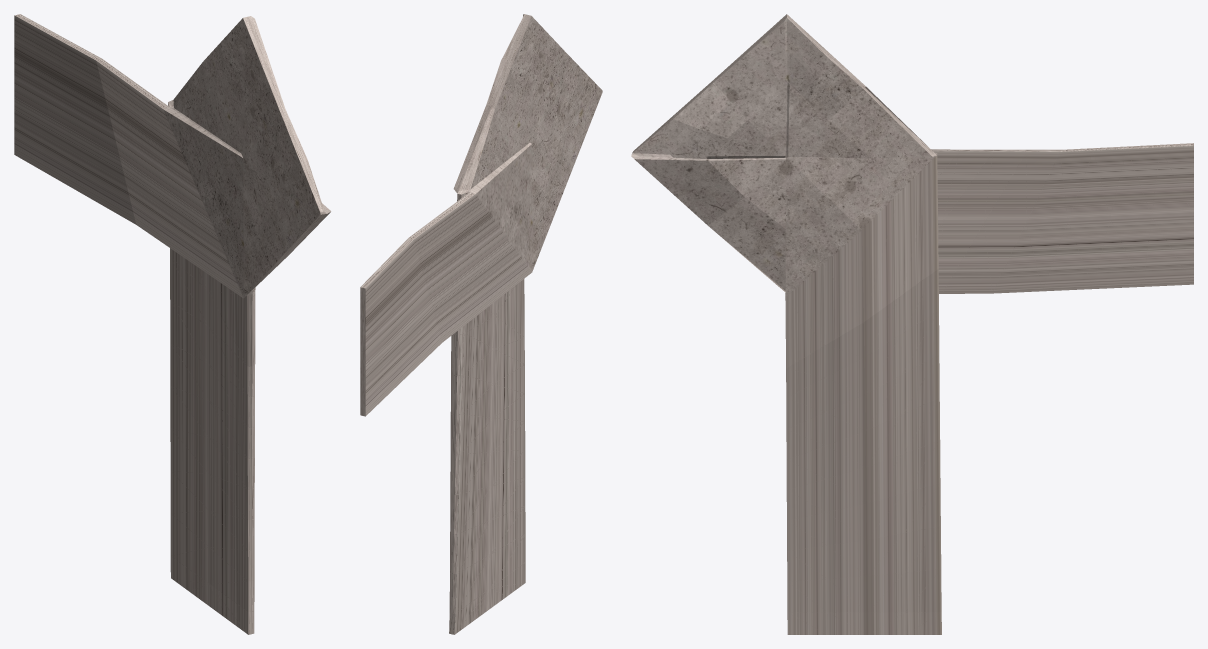
The model's file is memoF.glb.
3 views of the same model, side by side, from view 1: azimuth 30°, elevation 25°; view 2: azimuth 150°, elevation 25°; view 3: azimuth 270°, elevation 25° (orthographic). The views are drawn at different scales.
Visible parts, largest first — view 1: Cube; view 2: Cube; view 3: Cube.
Part boxes in pixels (x1,y1,x2,y2): Cube: (14, 14, 331, 634); Cube: (360, 14, 602, 634); Cube: (631, 14, 1193, 634).
Bounding box in the file's own units: 0.0262 × 0.3764 × 0.312.
1 material, 1 textured.
